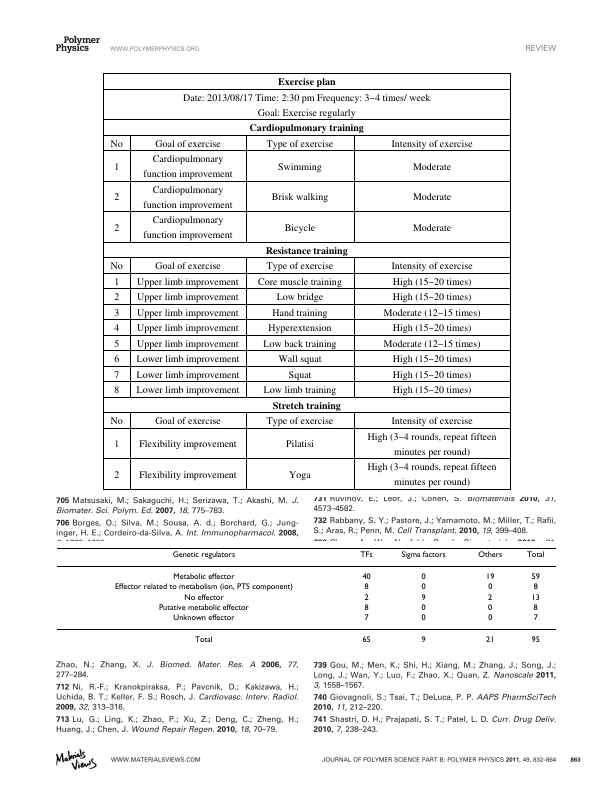bordered: (102, 71, 510, 489)
borderless: (55, 546, 557, 653)
cell: (181, 91, 431, 119), (366, 460, 497, 489), (366, 430, 497, 458), (142, 152, 233, 181), (142, 183, 233, 211), (142, 214, 233, 242), (113, 583, 293, 593), (248, 121, 364, 135), (135, 352, 240, 366), (135, 290, 239, 304), (135, 368, 240, 381), (135, 384, 240, 397), (135, 275, 239, 288), (135, 306, 239, 319), (135, 322, 239, 335), (135, 337, 239, 350), (382, 306, 481, 319), (382, 337, 481, 350), (138, 438, 237, 451), (138, 468, 237, 481), (390, 259, 473, 273), (391, 290, 472, 304), (391, 352, 472, 366), (256, 275, 342, 288), (264, 244, 348, 257), (390, 137, 473, 150), (390, 415, 473, 428), (391, 275, 472, 288), (391, 322, 472, 335), (391, 368, 472, 381), (391, 384, 472, 397), (262, 337, 337, 350), (262, 384, 337, 397), (265, 259, 334, 273), (154, 259, 221, 273), (157, 603, 249, 613), (271, 399, 341, 412), (265, 137, 334, 150), (265, 415, 334, 428), (154, 137, 221, 150), (154, 415, 221, 428), (267, 322, 332, 335), (276, 75, 336, 89), (270, 190, 329, 204), (271, 306, 328, 319), (275, 290, 324, 304), (171, 550, 236, 560), (277, 352, 322, 366), (276, 160, 322, 173), (411, 190, 452, 204), (172, 573, 235, 582), (172, 614, 235, 623), (411, 160, 452, 173), (411, 221, 452, 234), (400, 550, 446, 560), (283, 221, 316, 234), (183, 593, 224, 603), (284, 438, 314, 451), (287, 368, 312, 381), (287, 468, 311, 481), (477, 550, 503, 560), (525, 550, 545, 560), (109, 259, 123, 273), (194, 636, 213, 646), (109, 137, 123, 150), (109, 415, 123, 428), (359, 550, 373, 560), (530, 593, 540, 603), (361, 636, 371, 646), (485, 636, 495, 646), (530, 636, 540, 646), (113, 190, 120, 204), (113, 290, 120, 304), (113, 352, 120, 366), (113, 160, 120, 173), (113, 221, 120, 234), (113, 275, 120, 288), (113, 306, 120, 319), (113, 322, 120, 335), (113, 337, 120, 350), (113, 368, 120, 381), (113, 384, 120, 397), (113, 438, 120, 451), (113, 468, 120, 481), (361, 573, 371, 582), (485, 573, 495, 582), (530, 573, 540, 582), (363, 583, 369, 593), (420, 583, 426, 593), (487, 583, 493, 593), (532, 583, 538, 593), (363, 593, 369, 603), (420, 593, 426, 603), (487, 593, 493, 603), (363, 603, 369, 613), (420, 603, 426, 613), (487, 603, 493, 613), (532, 603, 538, 613), (420, 636, 426, 646), (420, 573, 426, 582), (363, 614, 369, 623), (420, 614, 426, 623), (487, 614, 493, 623), (532, 614, 538, 623)
